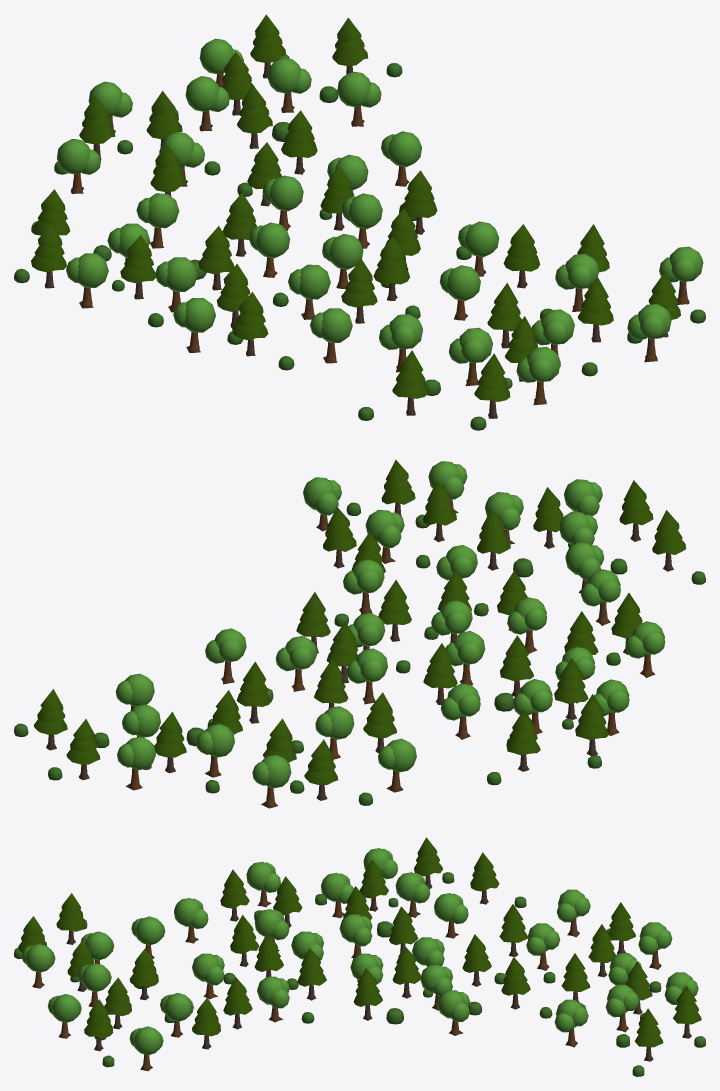
The model's file is fondo.fbx.
3 views of the same model, one above another, from view 1: azimuth 30°, elevation 25°; view 2: azimuth 150°, elevation 25°; view 3: azimuth 270°, elevation 25° (orthographic). The views are drawn at different scales.
Visible parts, largest first — view 1: arbol.019, arbol.020, arbol.015, arbol.010, arbol.008, arbol.011, arbol.007, arbol.016, arbol.014, arbol.017, arbol.021, arbol.024 (+46 smaller); view 2: arbol.021, arbol.024, arbol.026, arbol.001, arbol.006, arbol.003, arbol.023, arbol.002, arbol.014, arbol.016, arbol.022, arbol.028 (+46 smaller); view 3: arbol.007, arbol.010, arbol.002, arbol, arbol.008, arbol.009, arbol.003, arbol.012, arbol.021, arbol.026, arbol.022, arbol.024 (+46 smaller).
Boxes of the visible parts, bbox=[...] form: arbol.019: bbox=[627, 304, 671, 362]; arbol.020: bbox=[516, 346, 560, 405]; arbol.015: bbox=[449, 327, 492, 386]; arbol.010: bbox=[337, 71, 381, 126]; arbol.008: bbox=[267, 58, 311, 112]; arbol.011: bbox=[185, 76, 229, 131]; arbol.007: bbox=[57, 139, 100, 193]; arbol.016: bbox=[555, 253, 599, 311]; arbol.014: bbox=[659, 246, 703, 304]; arbol.017: bbox=[379, 314, 422, 372]; arbol.021: bbox=[310, 308, 352, 363]; arbol.024: bbox=[136, 193, 179, 248]; arbol.021: bbox=[581, 569, 620, 625]; arbol.024: bbox=[440, 683, 480, 739]; arbol.026: bbox=[625, 621, 665, 677]; arbol.001: bbox=[275, 636, 317, 691]; arbol.006: bbox=[346, 648, 387, 704]; arbol.003: bbox=[205, 628, 246, 684]; arbol.023: bbox=[507, 597, 547, 653]; arbol.002: bbox=[343, 559, 384, 614]; arbol.014: bbox=[303, 477, 341, 531]; arbol.016: bbox=[365, 509, 404, 563]; arbol.022: bbox=[513, 679, 552, 734]; arbol.028: bbox=[445, 631, 485, 685]; arbol.007: bbox=[556, 889, 590, 937]; arbol.010: bbox=[554, 999, 588, 1047]; arbol.002: bbox=[257, 976, 289, 1022]; arbol: bbox=[192, 953, 224, 999]; arbol.008: bbox=[605, 984, 639, 1032]; arbol.009: bbox=[526, 923, 560, 970]; arbol.003: bbox=[437, 990, 469, 1035]; arbol.012: bbox=[638, 922, 672, 969]; arbol.021: bbox=[174, 898, 208, 943]; arbol.026: bbox=[246, 861, 280, 907]; arbol.022: bbox=[395, 872, 430, 917]; arbol.024: bbox=[434, 893, 468, 938].
Bounding box in the file's own units: 22450 × 2731 × 33124.
